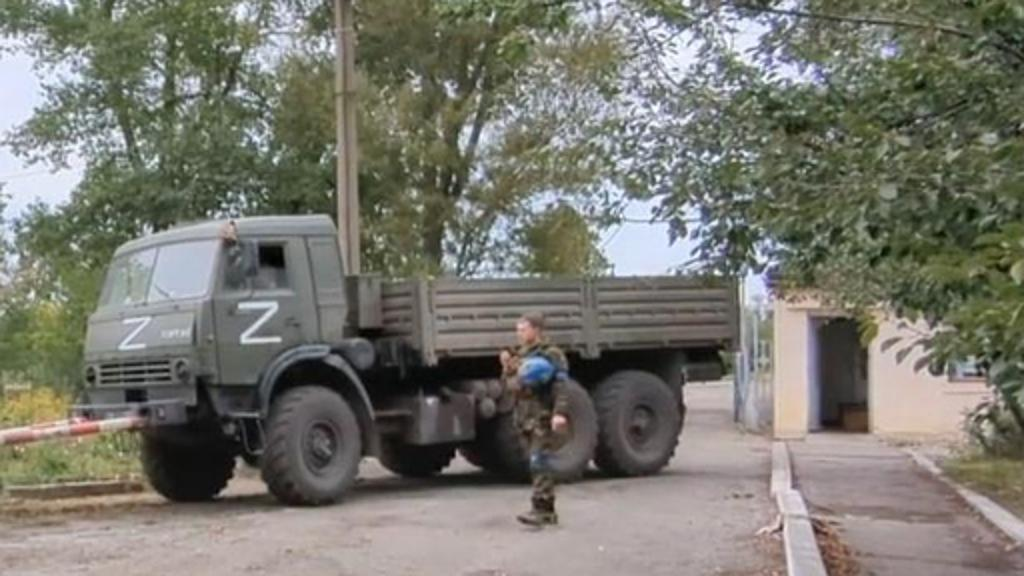TRUCK: (68, 210, 738, 506)
